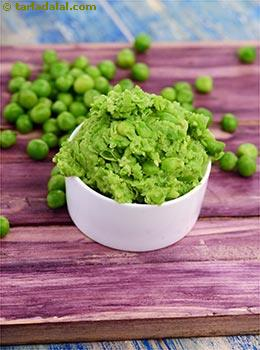boiled peas: (98, 85, 197, 202), (14, 64, 108, 145)
